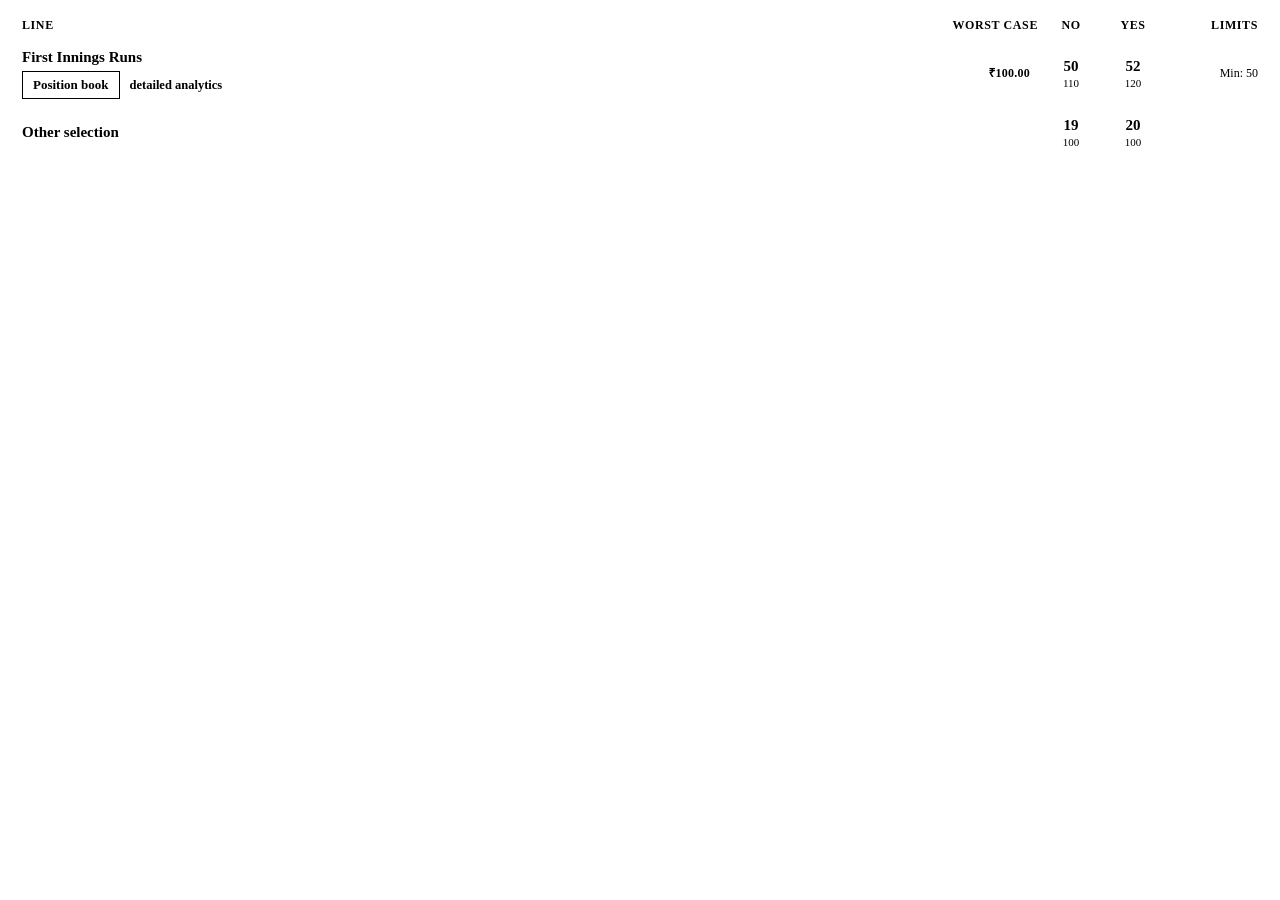
Test: complete read-only market odds layouts › fancy selections with matched bets sort first and retain both merged-market analytics actions
Expected: the text "Min: 50" is shown, x1=1220 y1=66 x2=1258 y2=80
Expected: the element named "Lay price 50" is shown, x1=1063 y1=58 x2=1079 y2=89
Click the button "Position book": coordinates (71, 85) x1=22 y1=71 x2=120 y2=99
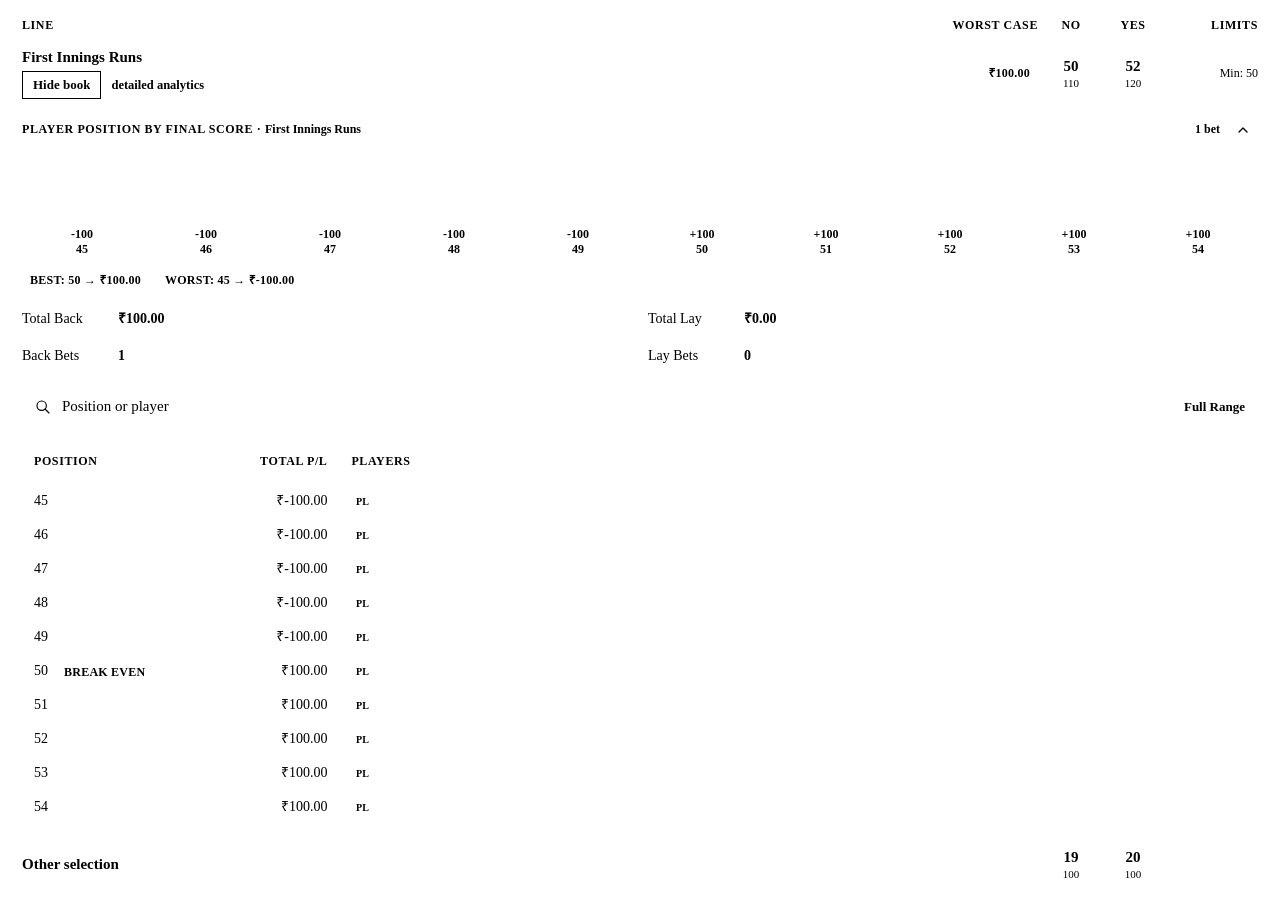
Expected: the table named "Fancy book player positions" is shown, x1=22 y1=438 x2=1258 y2=824
Click the button "Hide book": coordinates (62, 85) x1=22 y1=71 x2=101 y2=99
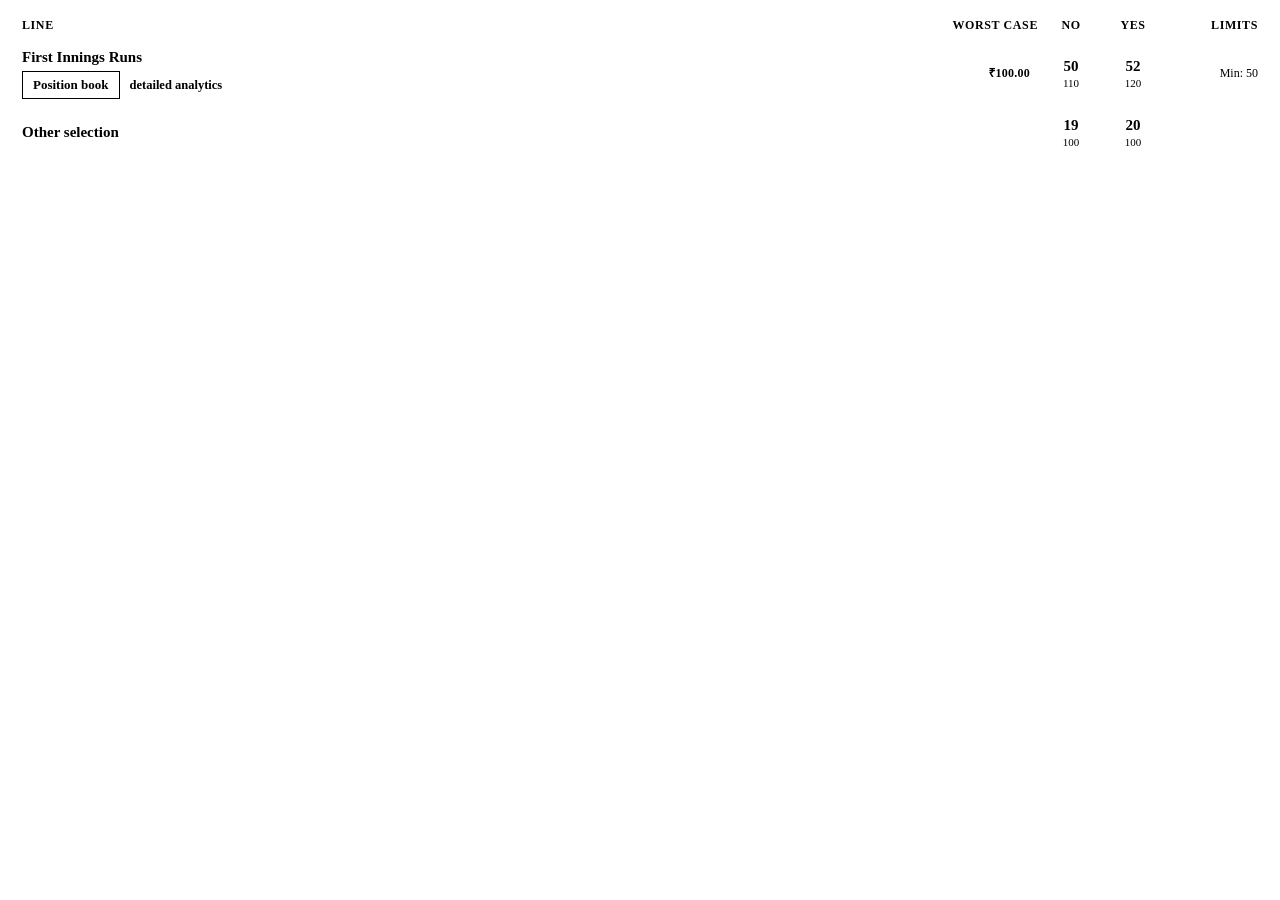
Click the button "detailed analytics": coordinates (176, 85) x1=130 y1=78 x2=222 y2=91
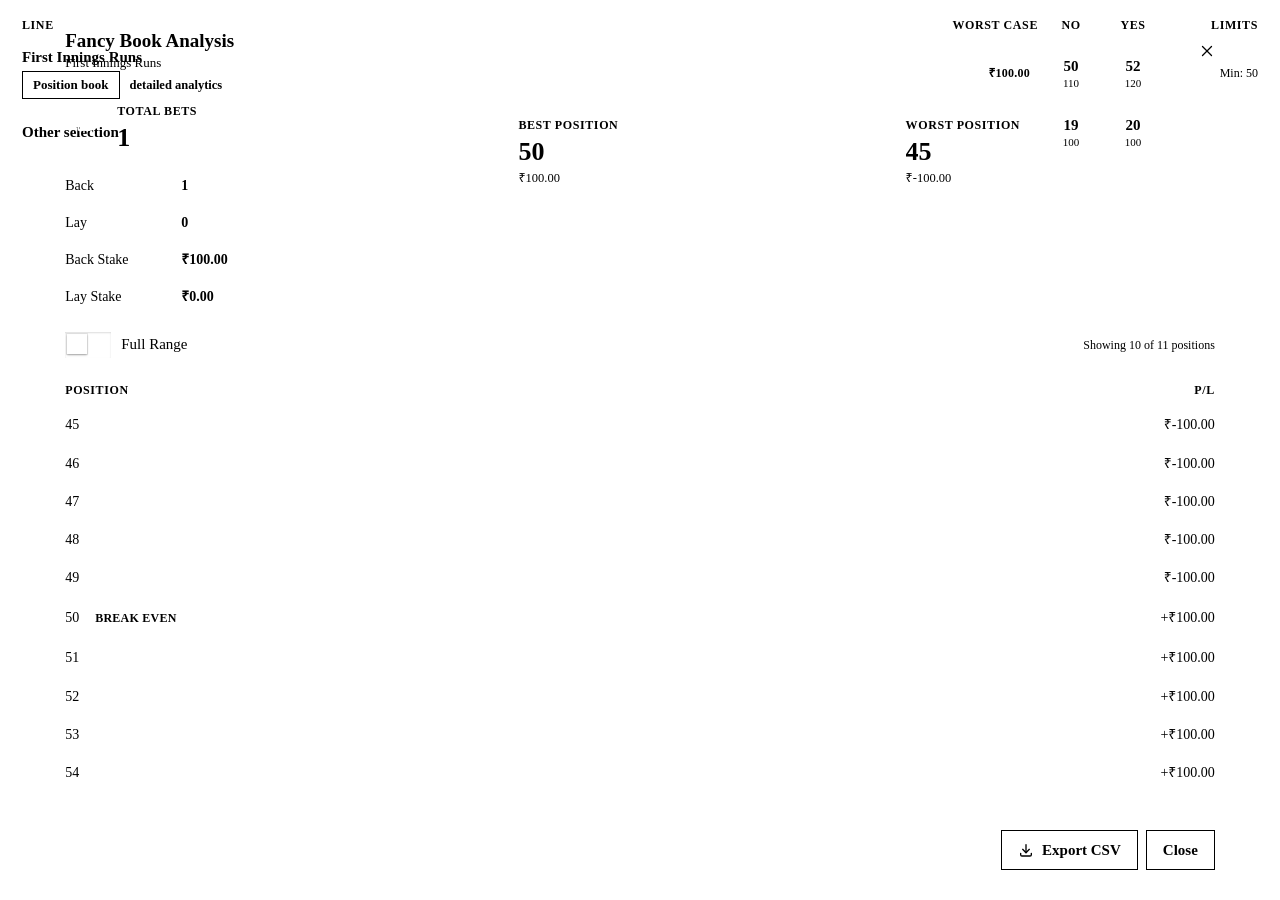
Expected: the table named "Fancy book positions" is shown, x1=65 y1=374 x2=1215 y2=792
